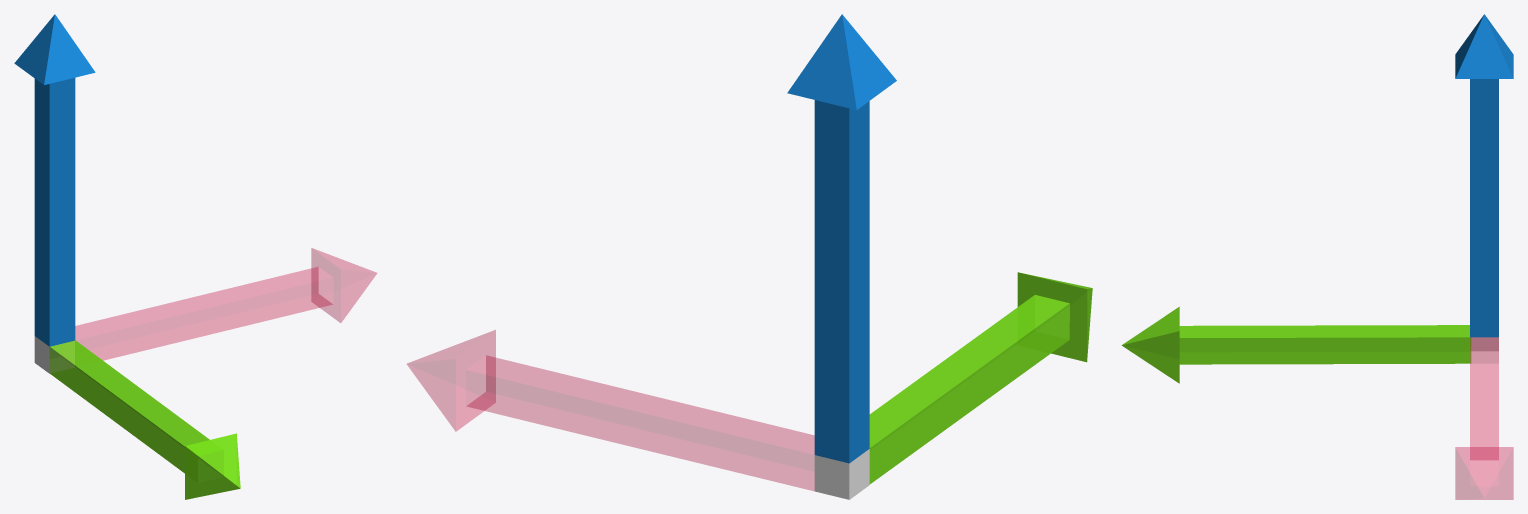
The model's file is AxesView.fbx.
The picture shows the model from 3 angles, left to right: view 1: azimuth 30°, elevation 25°; view 2: azimuth 150°, elevation 25°; view 3: azimuth 270°, elevation 25°; orthographic projection. The views are drawn at different scales.
Visible parts, largest first — view 1: Cube; view 2: Cube; view 3: Cube.
Part boxes in pixels (x1,y1,x2,y2): Cube: (14,14,376,499); Cube: (407,14,1092,499); Cube: (1121,14,1513,499).
Size of the model in its own units: 13.5 by 13.45 by 13.54.
